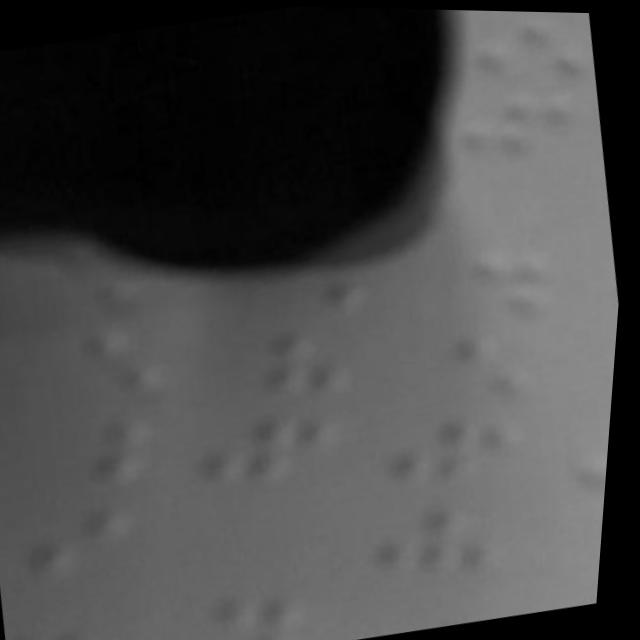braiile: (190, 381, 374, 497), (394, 227, 582, 333), (375, 386, 553, 496), (355, 478, 525, 593), (387, 307, 562, 414), (205, 307, 379, 410), (0, 484, 161, 587), (439, 66, 594, 166), (173, 570, 342, 640), (457, 8, 598, 87)
